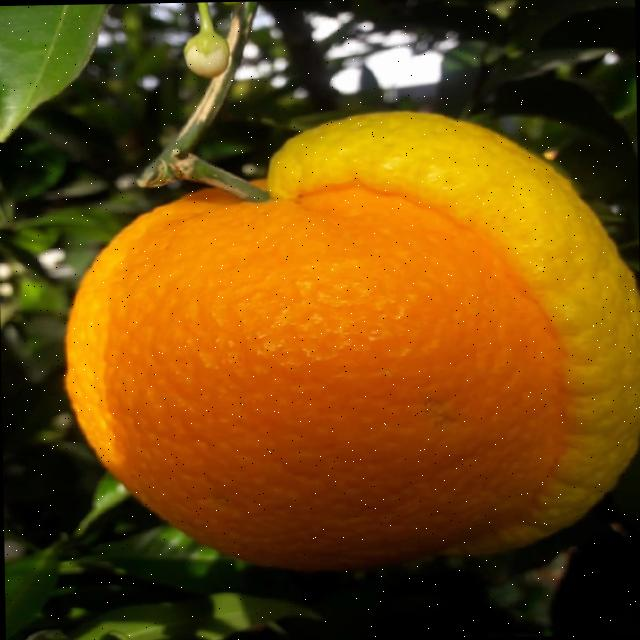Jeruk: (59, 104, 640, 574)
